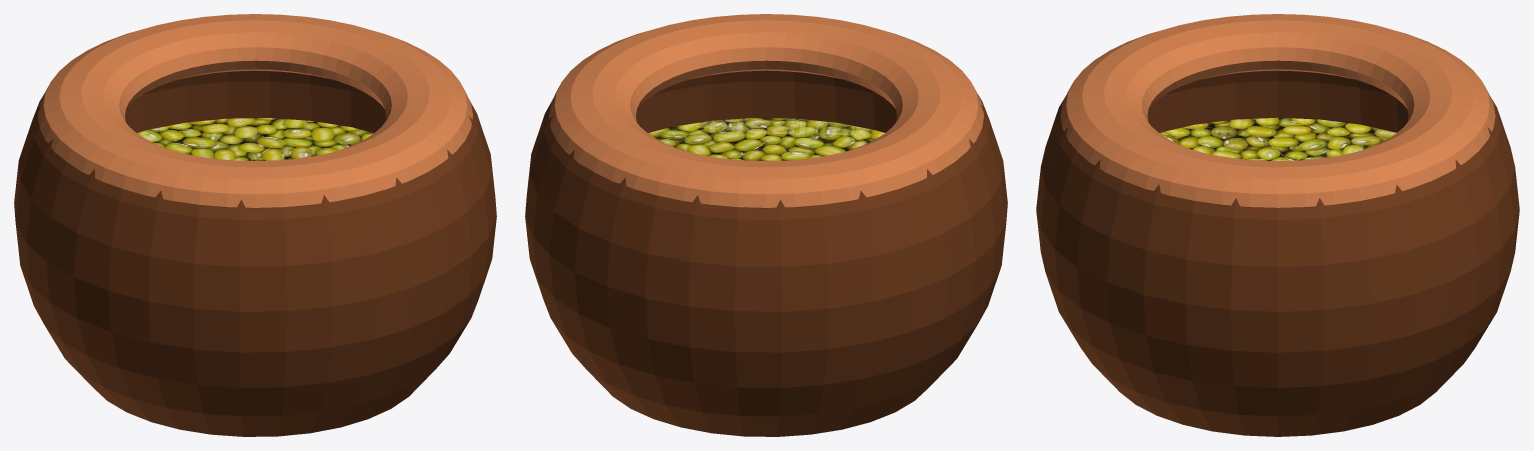
Rendered from MAND.fbx.
3 renders of one model, left to right at view 1: azimuth 30°, elevation 25°; view 2: azimuth 150°, elevation 25°; view 3: azimuth 270°, elevation 25°, orthographic.
Parts seen in each view (by area): view 1: Sphere, Torus, Sphere.001; view 2: Sphere, Torus, Sphere.001; view 3: Sphere, Torus, Sphere.001.
Part boxes in pixels (bbox=[...]): Sphere: bbox=[14, 70, 496, 436]; Torus: bbox=[38, 14, 472, 208]; Sphere.001: bbox=[137, 118, 373, 161]; Sphere: bbox=[525, 70, 1007, 436]; Torus: bbox=[549, 14, 983, 208]; Sphere.001: bbox=[648, 118, 884, 161]; Sphere: bbox=[1036, 70, 1519, 436]; Torus: bbox=[1060, 14, 1495, 207]; Sphere.001: bbox=[1159, 117, 1396, 160].
Size of the model in its own units: 82.75 by 51.15 by 82.75.
Materials: 1 (1 with a texture image).
